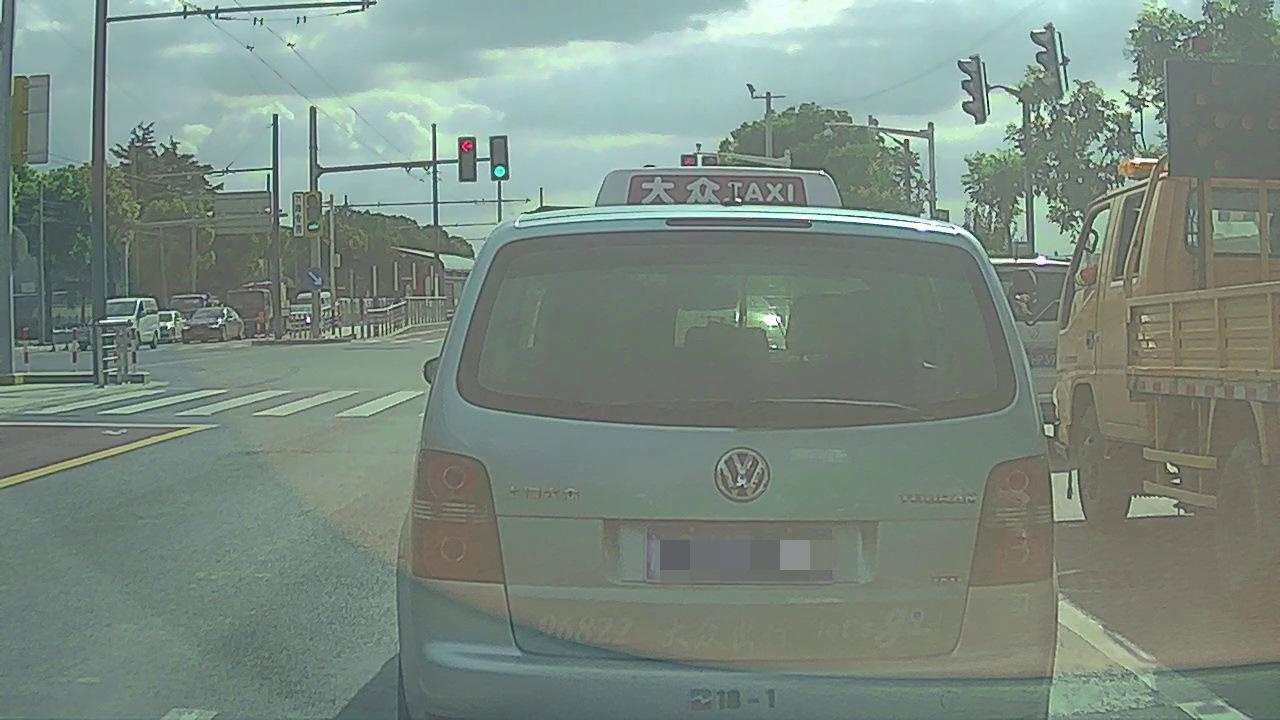traffic_light: (458, 135, 477, 181), (489, 136, 508, 180)
